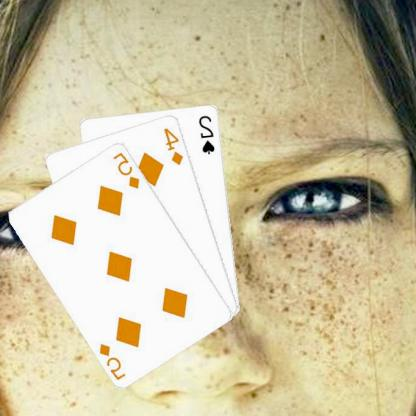2S: (198, 112, 218, 156)
4D: (163, 124, 187, 166)
5D: (98, 340, 129, 382), (112, 149, 142, 190)
